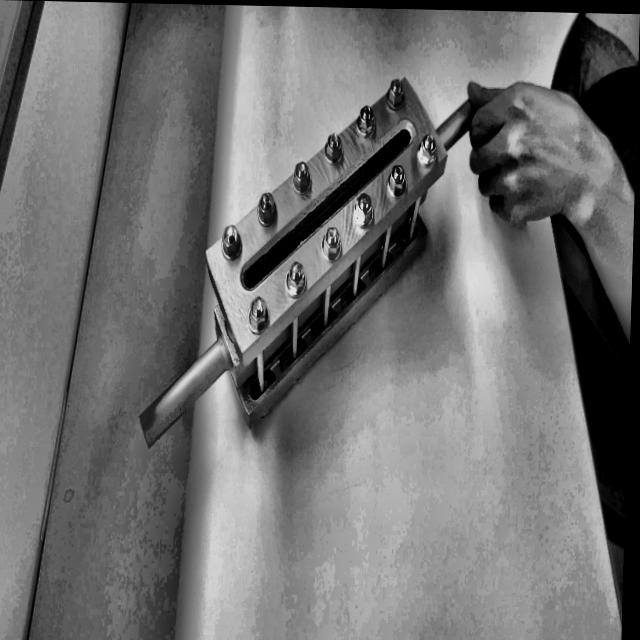ShuiWeiQi_12: (137, 54, 474, 452)
